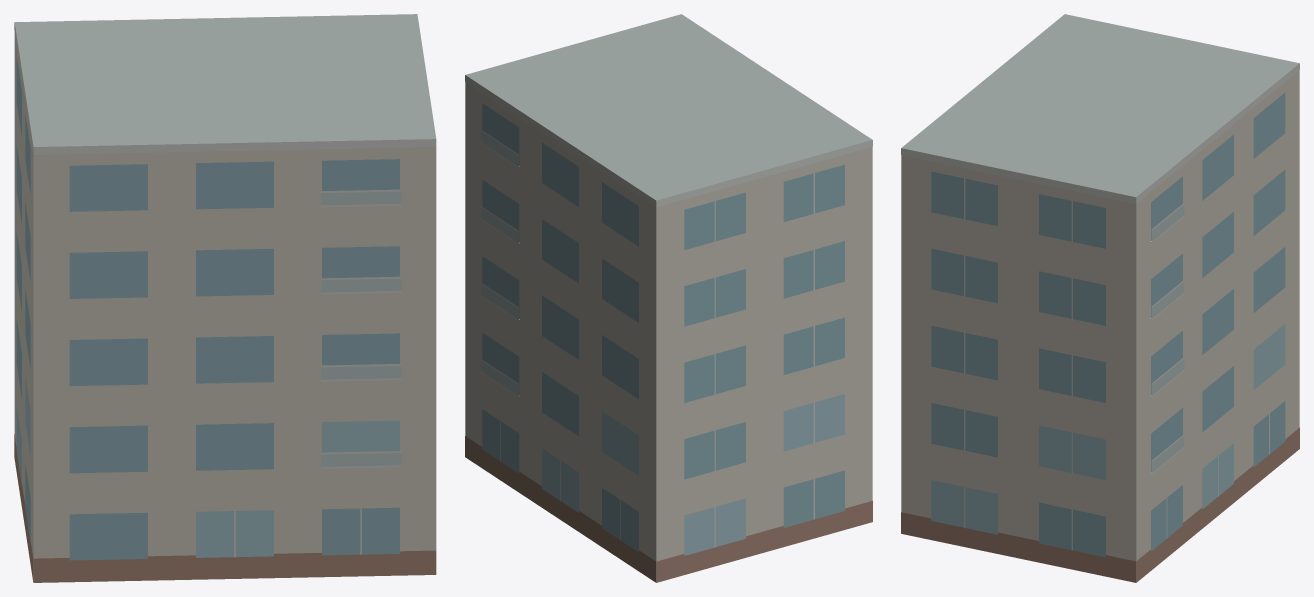
File: survey-upis-32892559.glb
3 renders of one model, left to right at view 1: azimuth 30°, elevation 25°; view 2: azimuth 150°, elevation 25°; view 3: azimuth 270°, elevation 25°, orthographic. The views are drawn at different scales.
Parts seen in each view (by area): view 1: survey-upis-32892559.tmp; view 2: survey-upis-32892559.tmp; view 3: survey-upis-32892559.tmp.
Part boxes in pixels (bbox=[...]): survey-upis-32892559.tmp: bbox=[14, 14, 436, 582]; survey-upis-32892559.tmp: bbox=[465, 14, 872, 582]; survey-upis-32892559.tmp: bbox=[901, 14, 1299, 582].
Size of the model in its own units: 13.97 by 13.7 by 12.84.
